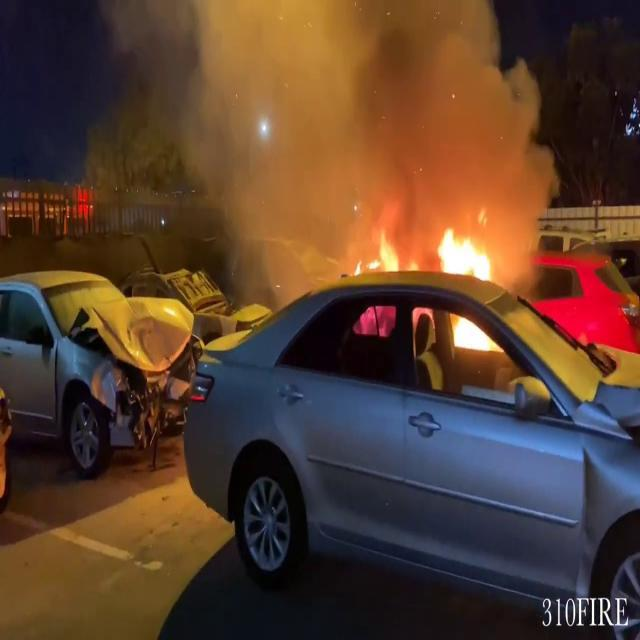Fire: (361, 218, 504, 286), (426, 221, 504, 285), (446, 310, 499, 360)
Smoke: (174, 0, 558, 260)
